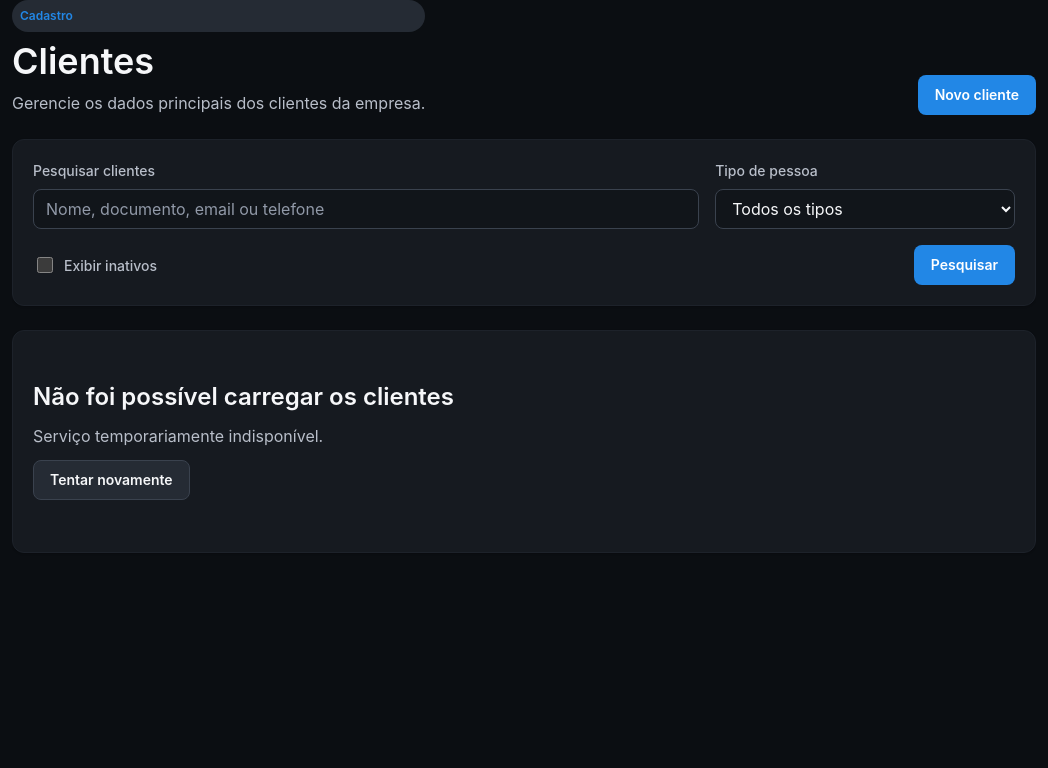
CustomersRoute › shows API errors and retries the list
The image size is (1048, 768).
Check: the text "Serviço temporariamente indisponível." is shown, box [33, 424, 323, 448]
Click the button "Tentar novamente": {"x": 111, "y": 480} [33, 460, 190, 500]
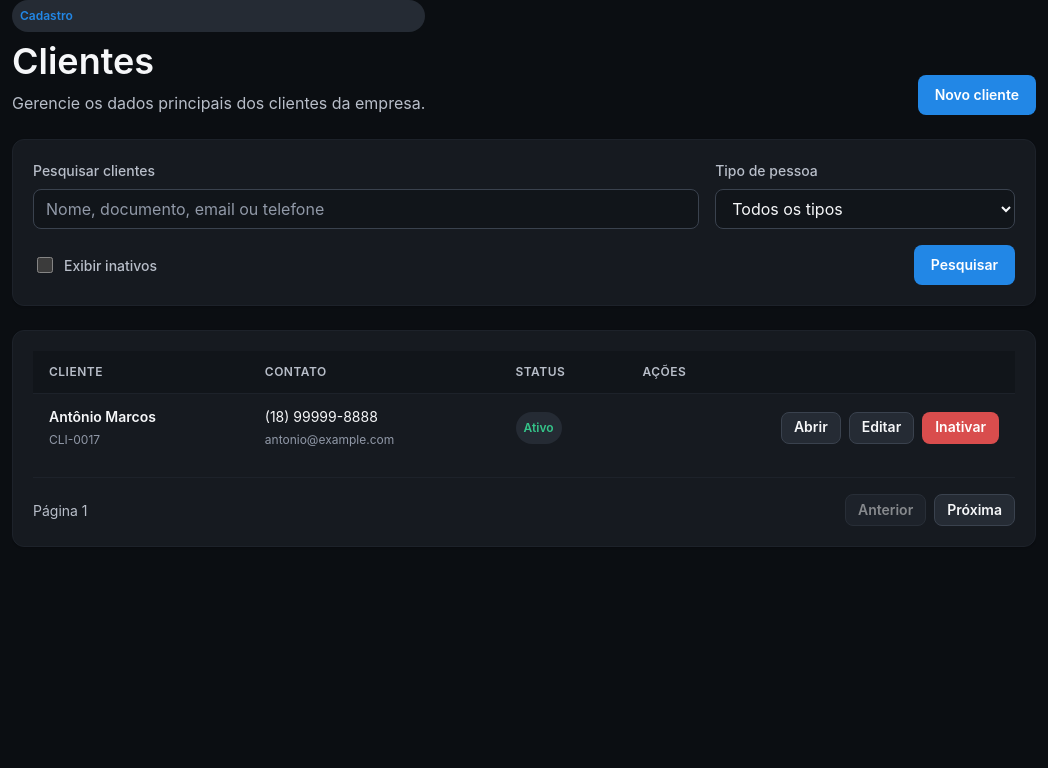
Check: the button "Antônio Marcos" is shown, box [49, 406, 156, 427]
